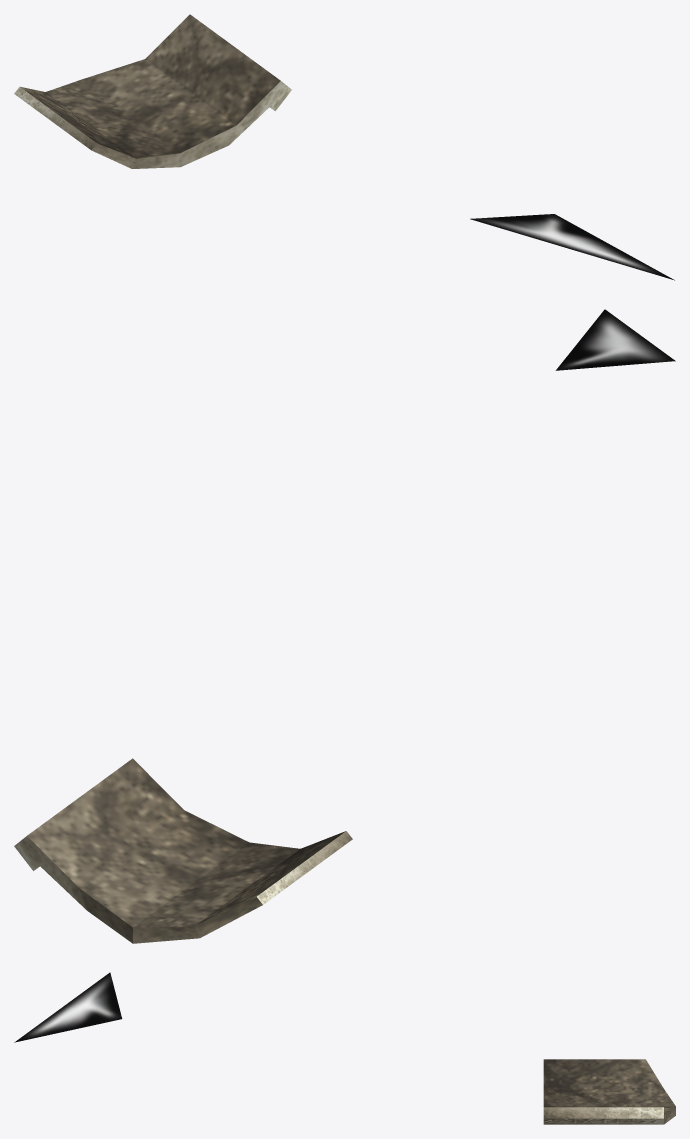
3 views of the same model, one above another, from view 1: azimuth 30°, elevation 25°; view 2: azimuth 150°, elevation 25°; view 3: azimuth 270°, elevation 25° (orthographic). The views are drawn at different scales.
Visible parts, largest first — view 1: B_0029_1a_0, B_0029_1a_1; view 2: B_0029_1a_0, B_0029_1a_1; view 3: B_0029_1a_0, B_0029_1a_1.
Boxes of the visible parts, x1,y1,x2,y2 form: B_0029_1a_0: (14,14,291,168); B_0029_1a_1: (470,214,674,280); B_0029_1a_0: (14,758,352,943); B_0029_1a_1: (555,309,675,370); B_0029_1a_0: (543,1059,675,1124); B_0029_1a_1: (14,972,122,1042).
Size of the model in its own units: 2.29 by 2.16 by 9.9.
2 materials, 2 textured.
